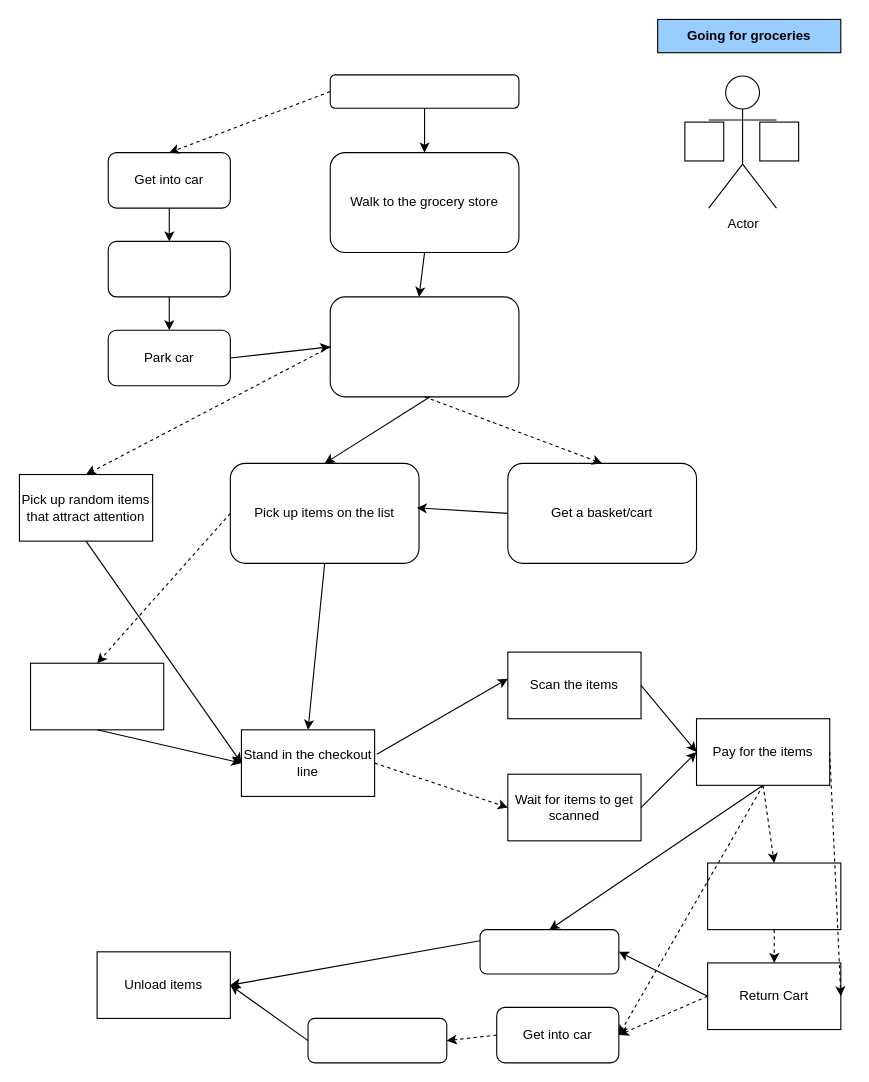
Image size: 869x1082. Some labels were removed from this diagram. Here are the shapes that lost their labels. From the top down, the box of each, then its label:
(329, 74, 519, 108): Make a shopping list
(107, 240, 230, 297): Drive to grocery store
(329, 296, 519, 397): Enter the grocery store
(29, 662, 164, 730): Look for replacement for missing items
(707, 862, 841, 930): Bag the items
(479, 929, 619, 974): Walk back home
(307, 1017, 447, 1063): Drive back home
